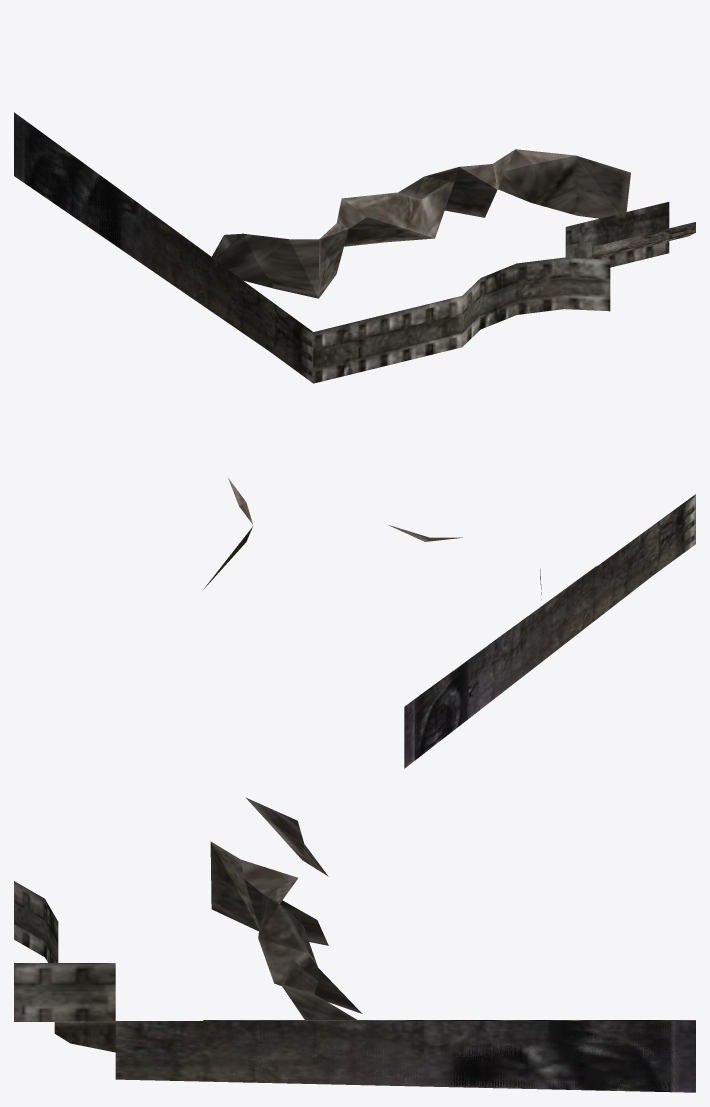
The picture shows the model from 3 angles, top to bottom: view 1: azimuth 30°, elevation 25°; view 2: azimuth 150°, elevation 25°; view 3: azimuth 270°, elevation 25°; orthographic projection. The views are drawn at different scales.
Visible parts, largest first — view 1: model_Object54; view 2: model_Object54; view 3: model_Object54.
Part boxes in pixels (x1,y1,x2,y2): model_Object54: [14, 112, 695, 383]; model_Object54: [203, 478, 695, 768]; model_Object54: [14, 797, 695, 1092].
Bounding box in the file's own units: 3.5 × 0.5861 × 4.53.
3 materials, 3 textured.
